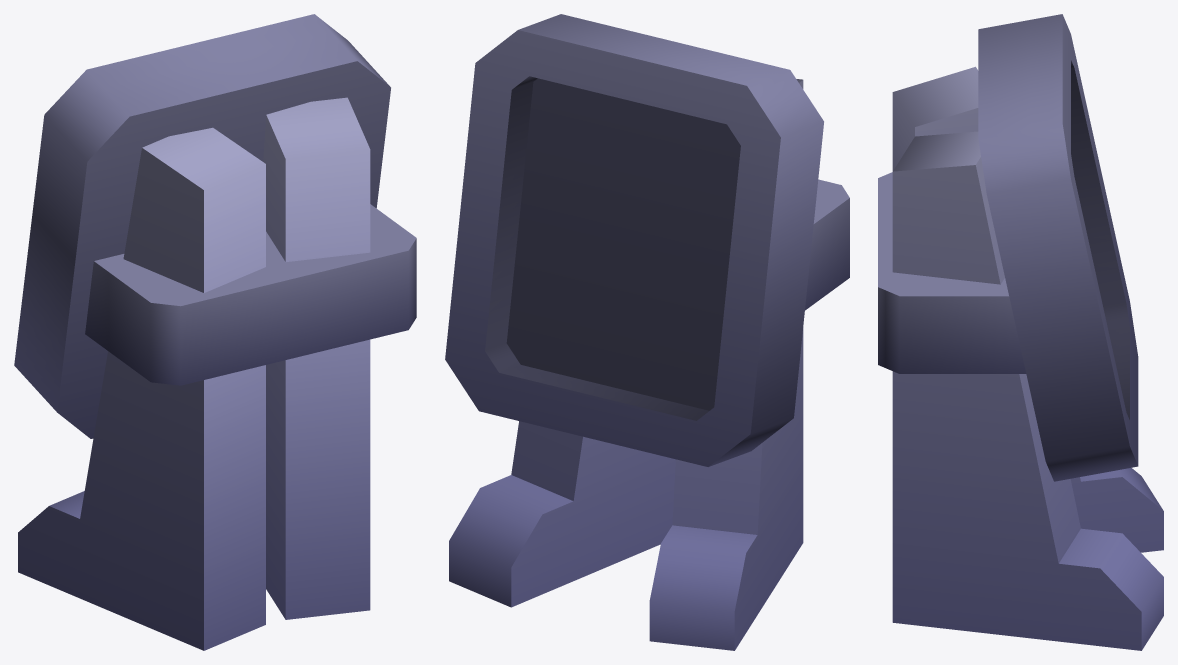
File: kenney-factory-screen-small.glb
The picture shows the model from 3 angles, left to right: view 1: azimuth 30°, elevation 25°; view 2: azimuth 150°, elevation 25°; view 3: azimuth 270°, elevation 25°; orthographic projection. The views are drawn at different scales.
Parts seen in each view (by area): view 1: screen-small; view 2: screen-small; view 3: screen-small.
Boxes of the visible parts, box(x1,y1,x2,y2) form: screen-small: box(14, 14, 416, 650); screen-small: box(445, 14, 849, 650); screen-small: box(878, 14, 1163, 650).
Size of the model in its own units: 0.9 by 1.49 by 0.7489.
1 material, 1 textured.
